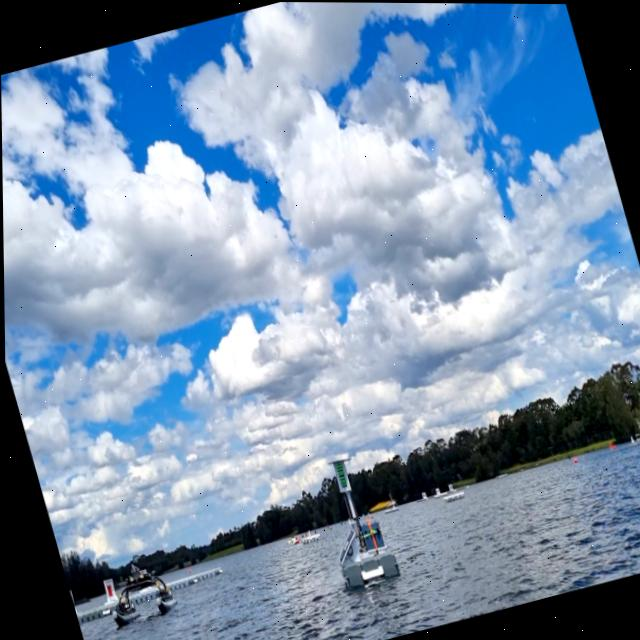led: (332, 460, 348, 489)
